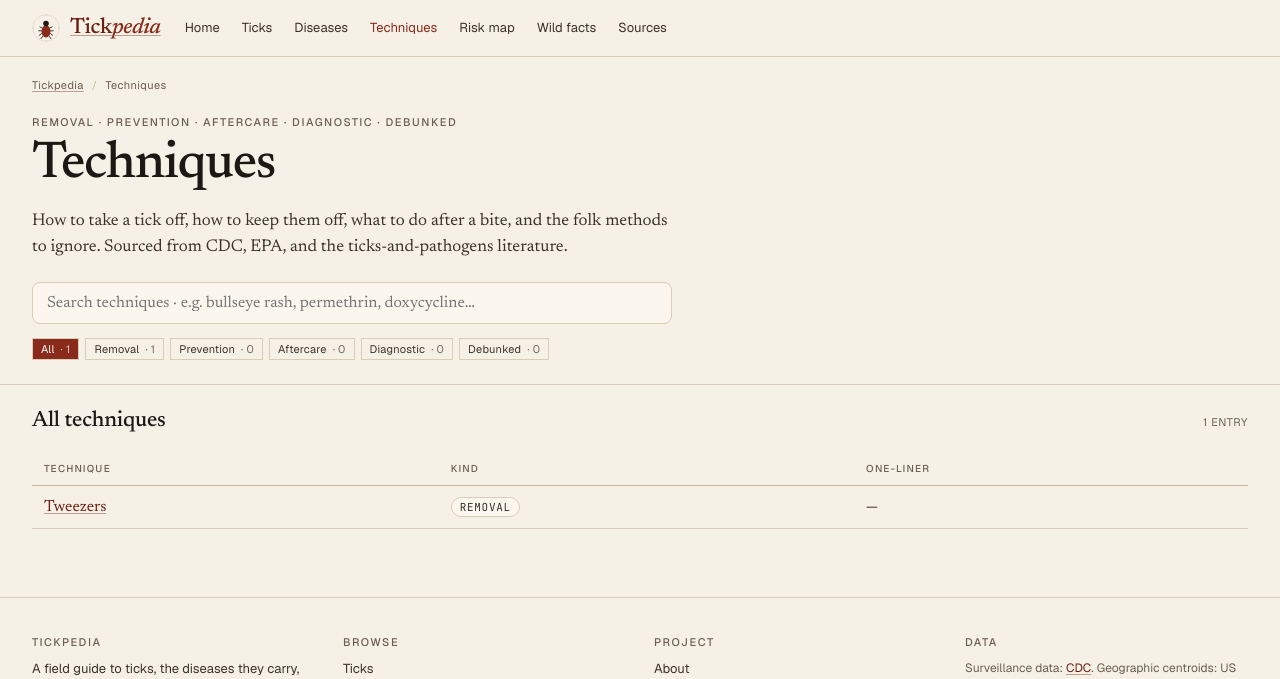
TechniquesIndexPage › runs a SemiLayer search after debounce and renders the results
The image size is (1280, 679).
Expected: the link "Tweezers" is shown, [44,499,106,515]
Replace the text in the search field with test id "techniques-search-input" with "bullseye" at (352, 303), box [32,282,672,324]
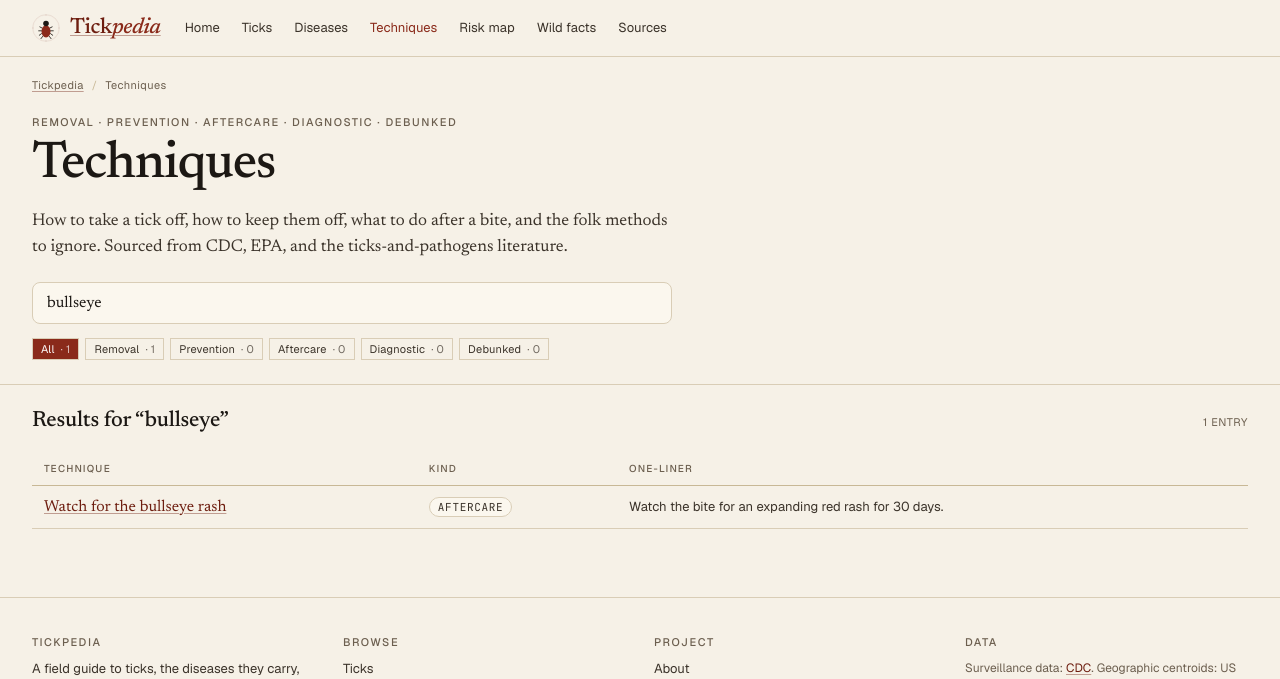
Result: the link "Watch for the bullseye rash" is shown at [44,499,226,515]
Result: the link "Tweezers" is gone
